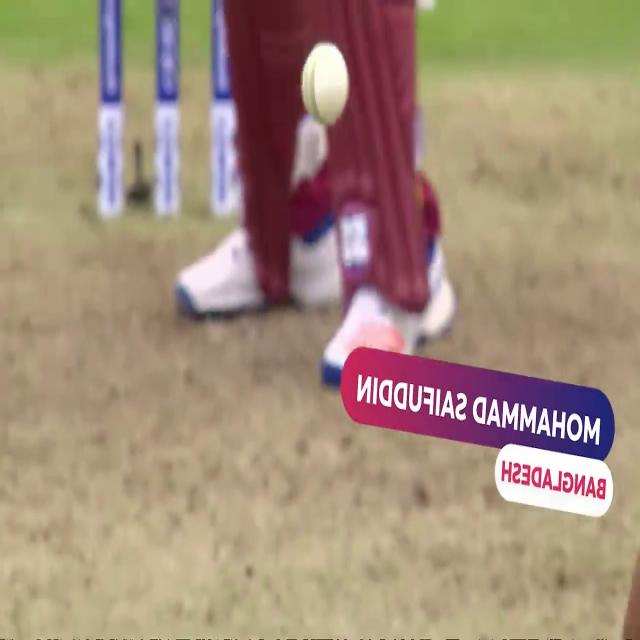ball: (297, 36, 353, 138)
